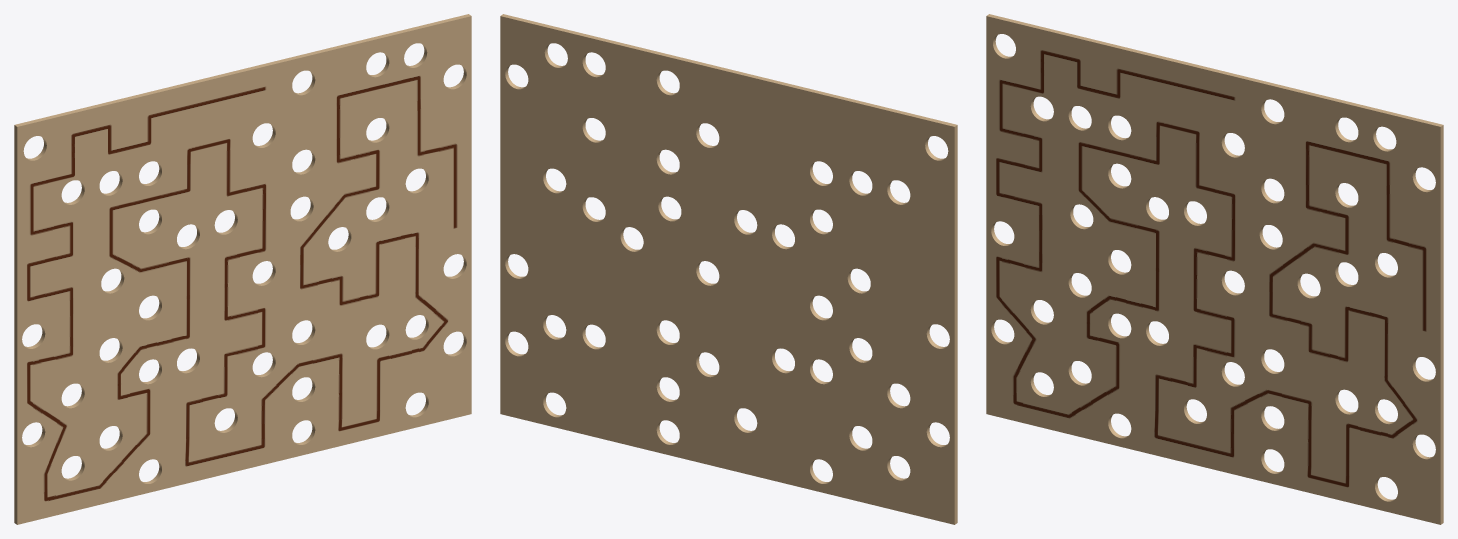
Rendered from board_mesh.obj.
3 renders of one model, left to right at view 1: azimuth 30°, elevation 25°; view 2: azimuth 150°, elevation 25°; view 3: azimuth 330°, elevation 25°, orthographic.
Visible parts, largest first — view 1: board_mesh; view 2: board_mesh; view 3: board_mesh.
Part boxes in pixels (<box>): board_mesh: <box>14,14,471,524</box>; board_mesh: <box>500,14,957,524</box>; board_mesh: <box>986,14,1443,524</box>.
Size of the model in its own units: 276 by 231 by 3.
Materials: 1 (1 with a texture image).
